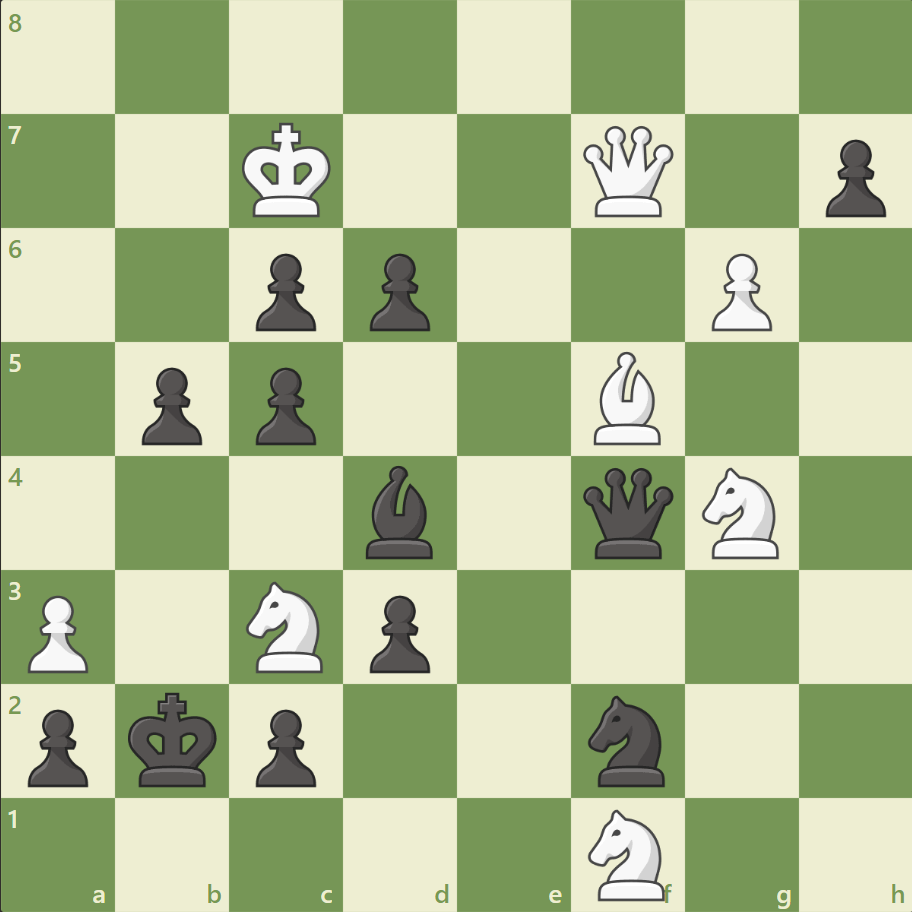B: (585, 347, 669, 449)
K: (238, 117, 338, 225)
N: (692, 461, 789, 564), (238, 575, 335, 677), (579, 802, 676, 904)
P: (701, 246, 776, 337), (20, 586, 95, 677)
Q: (578, 122, 677, 222)
b: (358, 460, 442, 563)
k: (124, 685, 224, 793)
n: (579, 688, 676, 791)
p: (247, 246, 322, 337), (133, 359, 208, 450), (247, 359, 322, 450), (20, 700, 95, 791), (247, 700, 322, 791), (815, 132, 889, 223), (361, 246, 435, 337), (361, 586, 435, 677)
q: (578, 463, 677, 562)
